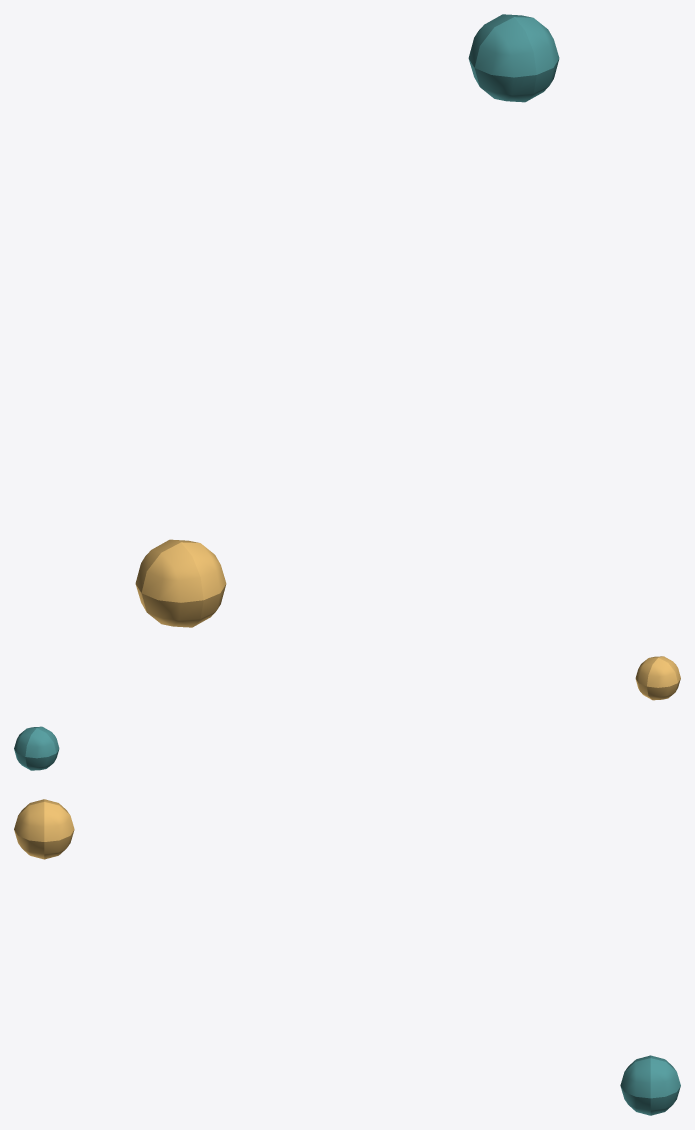
The model's file is AxisProbe.fbx.
The picture shows the model from 3 angles, top to bottom: view 1: azimuth 30°, elevation 25°; view 2: azimuth 150°, elevation 25°; view 3: azimuth 270°, elevation 25°; orthographic projection. The views are drawn at different scales.
Parts seen in each view (by area): view 1: FrontMinusY, PositiveX; view 2: FrontMinusY, PositiveX; view 3: FrontMinusY, PositiveX.
Part boxes in pixels (box(x1,y1,x2,y2)): FrontMinusY: box(468, 14, 559, 102); PositiveX: box(135, 539, 226, 627); FrontMinusY: box(14, 726, 59, 770); PositiveX: box(635, 656, 680, 700); FrontMinusY: box(620, 1055, 680, 1115); PositiveX: box(14, 799, 74, 859).
Size of the model in its own units: 1.1 by 0.1 by 1.1.
